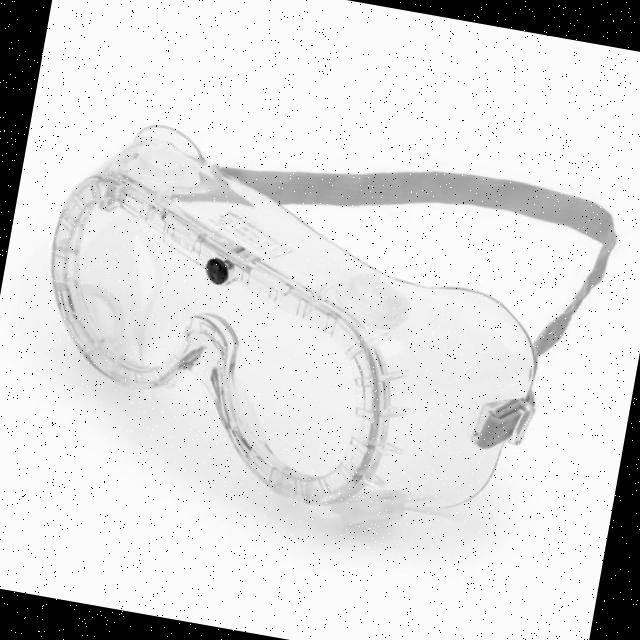goggles_on: (0, 94, 638, 572)
